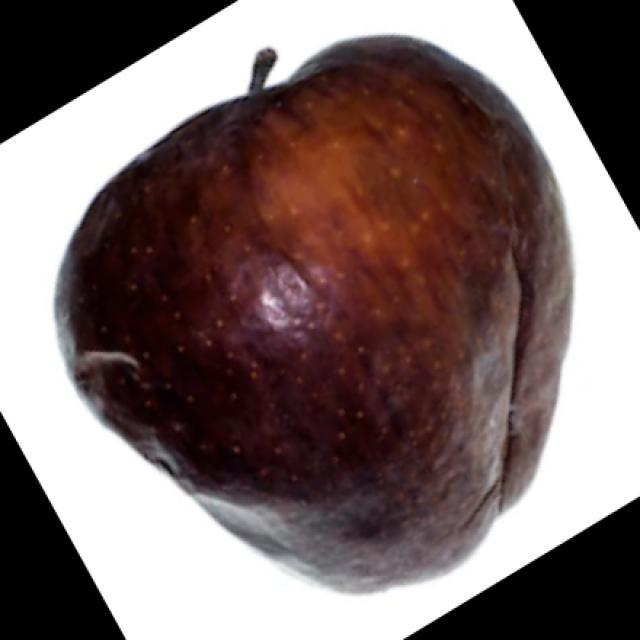Rotten: (49, 40, 578, 583)
